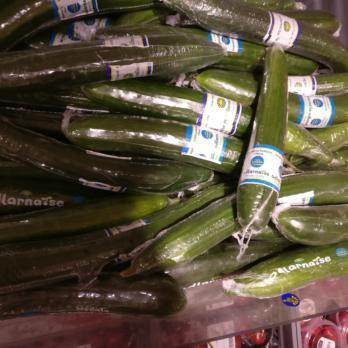Cucumber: (2, 3, 348, 275)
